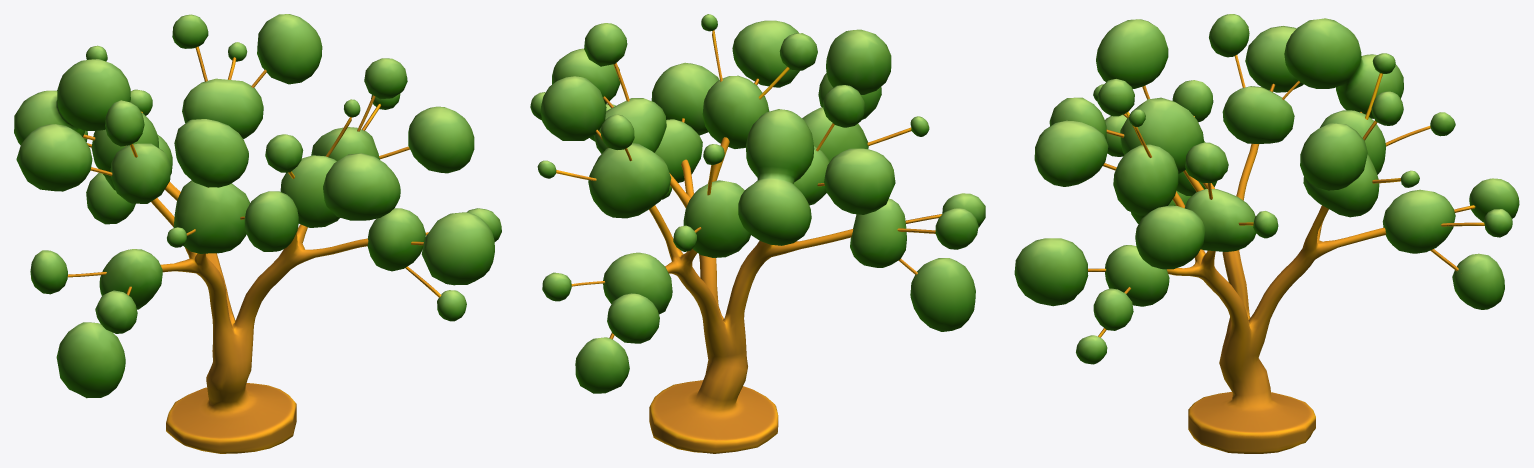
File: tree5.fbx
3 renders of one model, left to right at view 1: azimuth 30°, elevation 25°; view 2: azimuth 150°, elevation 25°; view 3: azimuth 270°, elevation 25°, orthographic.
Visible parts, largest first — view 1: trunk_4; view 2: trunk_4; view 3: trunk_4.
Part boxes in pixels (box(x1,y1,x2,y2)): trunk_4: box(14, 14, 501, 453); trunk_4: box(530, 14, 985, 453); trunk_4: box(1014, 14, 1519, 453).
Size of the model in its own units: 454 by 376 by 472.
